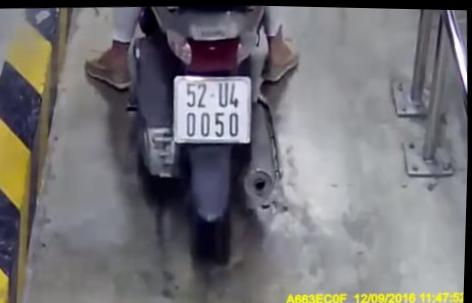LP: (167, 66, 254, 147)
